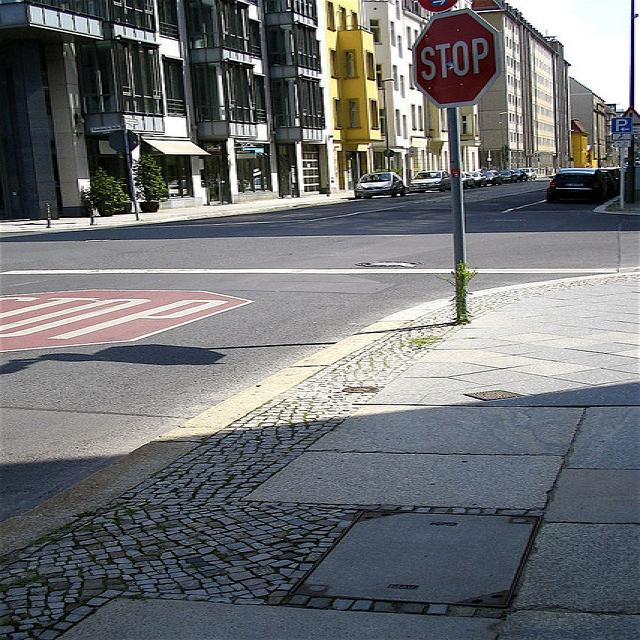Vehicle: (546, 166, 610, 204), (354, 172, 408, 199), (409, 171, 452, 193), (598, 171, 618, 192), (481, 171, 504, 187), (497, 170, 525, 183), (467, 172, 486, 188), (461, 172, 476, 188), (518, 168, 537, 180)
